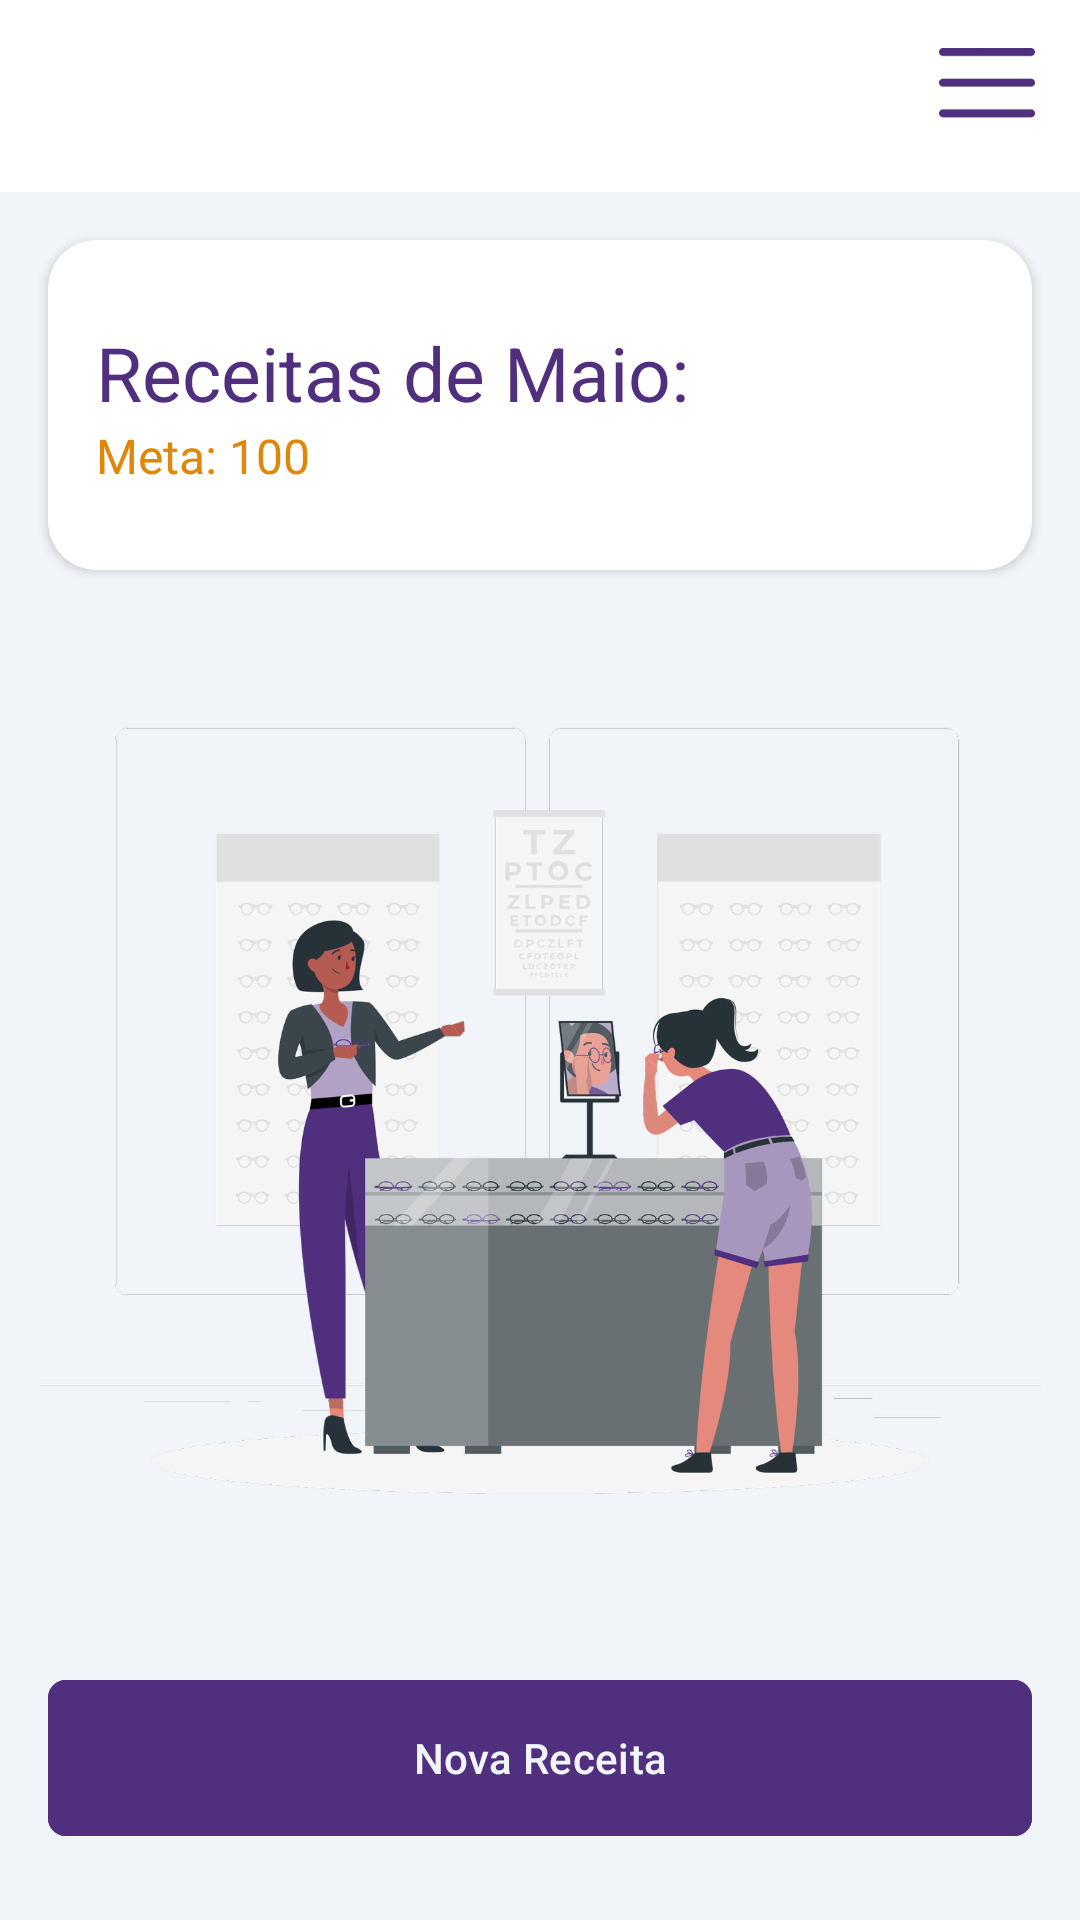

Screen size 1080x1920. Icon name, then its box in pixels as region(x1, y1, x2, y2):
Menu: region(939, 48, 1035, 118)
